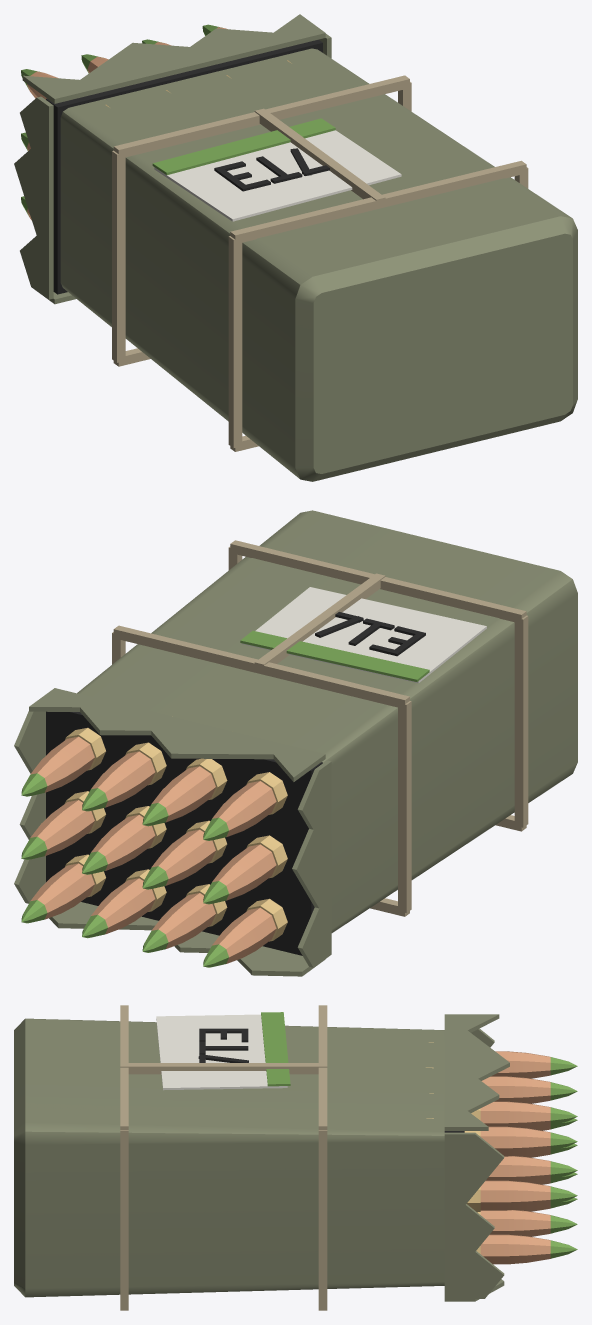
File: ammo_545_tracer.glb
The picture shows the model from 3 angles, top to bottom: view 1: azimuth 30°, elevation 25°; view 2: azimuth 150°, elevation 25°; view 3: azimuth 270°, elevation 25°; orthographic projection. The views are drawn at different scales.
Visible parts, largest first — view 1: body; view 2: body; view 3: body.
Boxes of the visible parts, x1,y1,x2,y2 form: body: [14, 14, 577, 481]; body: [14, 510, 577, 976]; body: [14, 1005, 577, 1310].
Bounding box in the file's own units: 0.0511 × 0.0361 × 0.0995.
